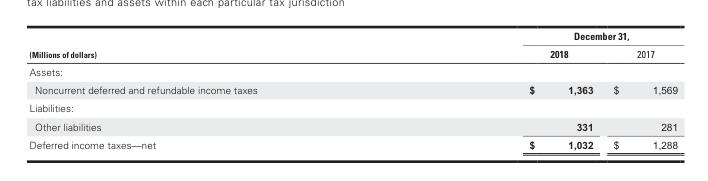table: (28, 29, 677, 150)
table column: (28, 29, 392, 150), (392, 29, 602, 150), (602, 29, 677, 150)
table column header: (28, 29, 677, 62)
table projected row header: (28, 98, 677, 117), (28, 62, 677, 80)
table row: (28, 98, 677, 117), (28, 44, 677, 62), (28, 62, 677, 80), (28, 80, 677, 98), (28, 117, 677, 135), (28, 29, 677, 44), (28, 135, 677, 150)
table spanning cell: (28, 29, 392, 62), (392, 29, 677, 44)
